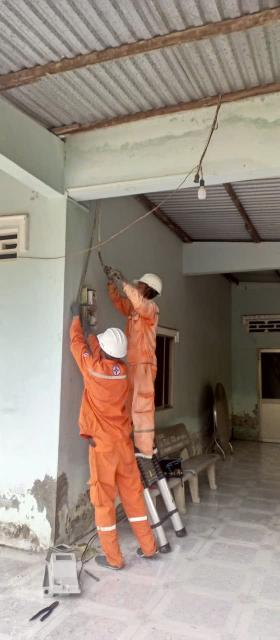gloves: (79, 317, 98, 338), (67, 299, 84, 318), (99, 265, 117, 281), (110, 268, 126, 283)
helmet: (96, 328, 134, 358), (134, 272, 169, 296)
shoes: (92, 551, 124, 571), (134, 544, 160, 557), (132, 446, 152, 462), (148, 444, 159, 452)
